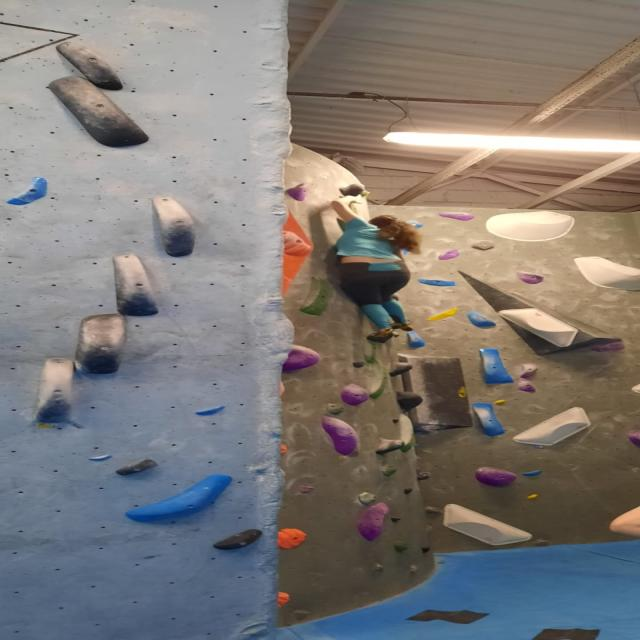Crimp: (3, 179, 50, 210), (278, 229, 317, 255), (274, 528, 310, 554), (192, 403, 229, 421), (82, 453, 116, 464)
Jug: (473, 466, 519, 491), (283, 182, 312, 202)
Pinch: (44, 75, 152, 150), (144, 194, 213, 258), (56, 42, 130, 91), (107, 252, 161, 318), (30, 356, 80, 426), (77, 313, 125, 376), (208, 530, 263, 554), (115, 457, 162, 477)
Sloper: (122, 474, 238, 525), (435, 502, 538, 548), (516, 405, 594, 452), (502, 306, 580, 352), (488, 207, 578, 243), (572, 255, 640, 289), (350, 501, 394, 543), (320, 412, 361, 457), (478, 343, 516, 386), (296, 274, 332, 319), (278, 343, 323, 373), (607, 504, 640, 540), (473, 406, 510, 438), (338, 380, 371, 405)
